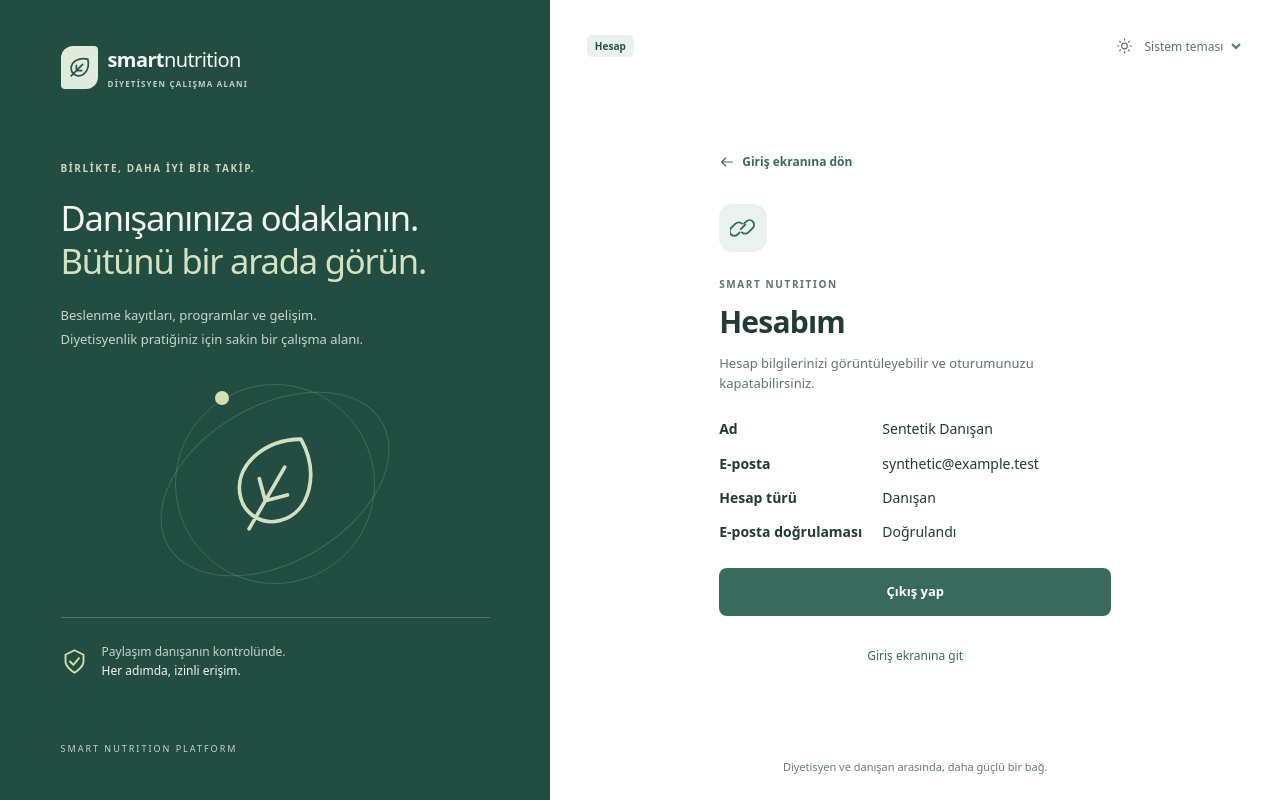
Test: web cookie session › drops stale CSRF without automatically retrying a failed mutation
Expected: the text "synthetic@example.test" is shown, [882,454,1039,472]
Click the button "Çıkış yap": (915,592) [719,568,1111,616]
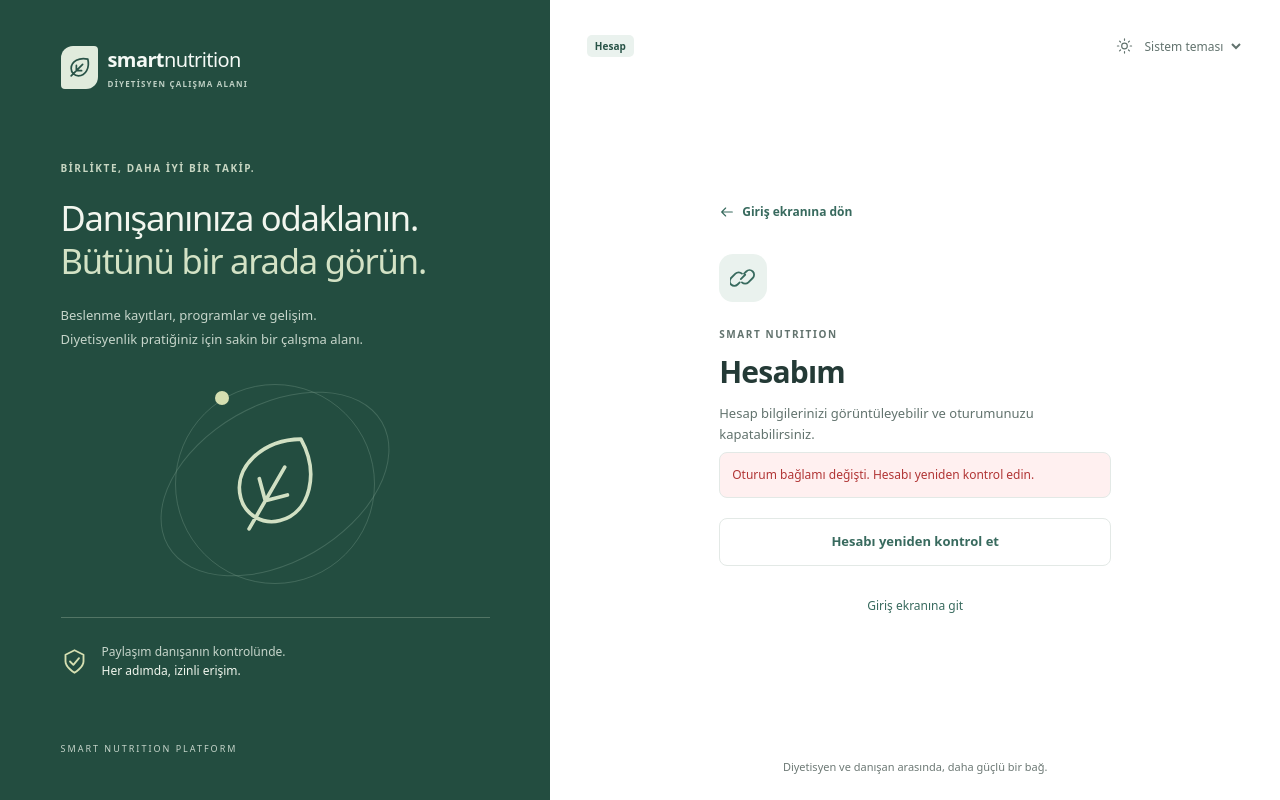
Expected: the message shows "Oturum bağlamı değişti", [732,466,1034,483]
Expected: the text "synthetic@example.test" is gone
